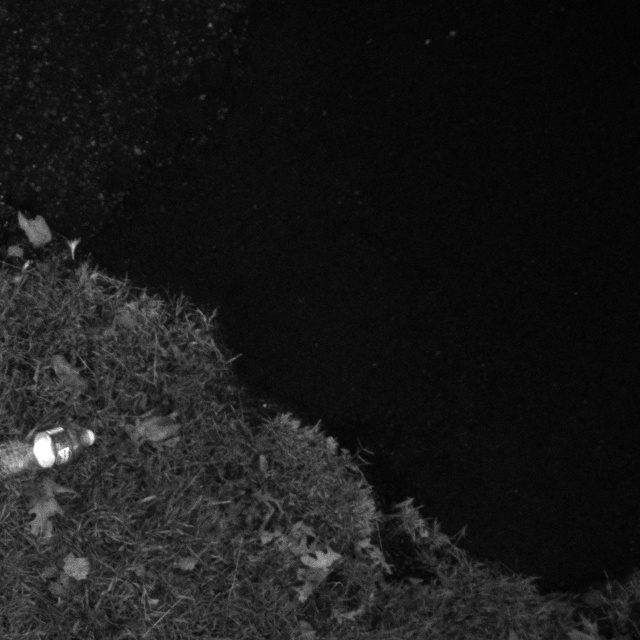bottle: (0, 406, 105, 495)
